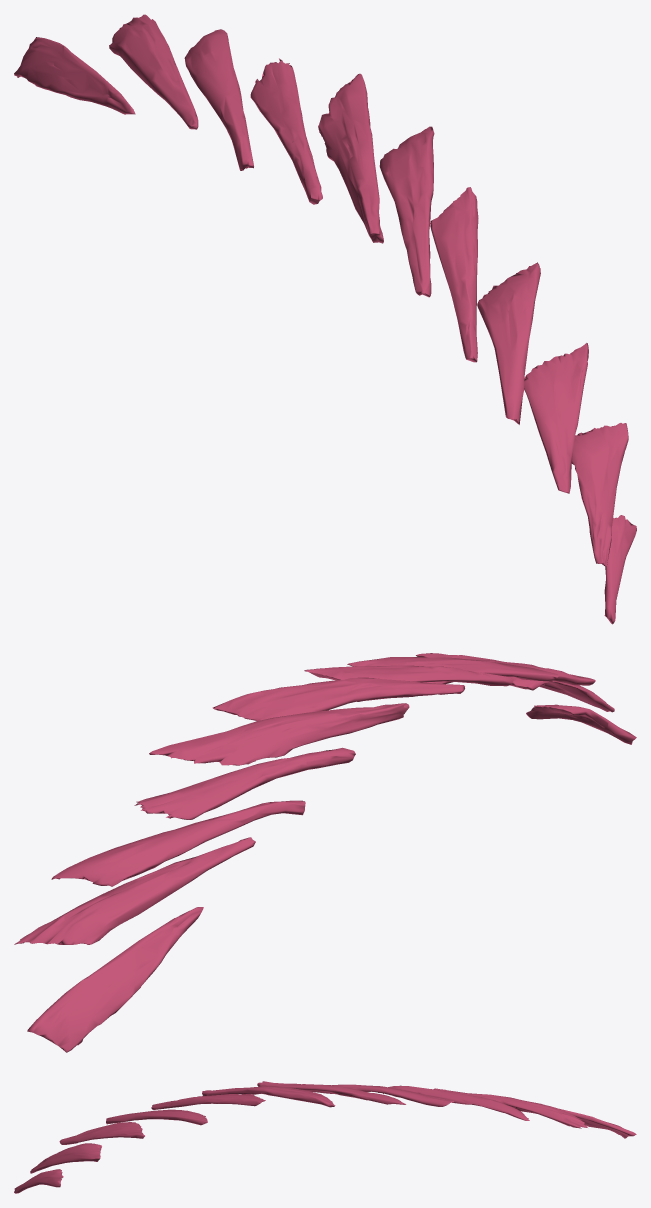
3 views of the same model, one above another, from view 1: azimuth 30°, elevation 25°; view 2: azimuth 150°, elevation 25°; view 3: azimuth 270°, elevation 25° (orthographic). The views are drawn at different scales.
Parts seen in each view (by area): view 1: 左侧肋长提肌; view 2: 左侧肋长提肌; view 3: 左侧肋长提肌.
Part boxes in pixels (left/top/right/bottom): 左侧肋长提肌: left=14, top=14, right=636, bottom=624; 左侧肋长提肌: left=14, top=653, right=636, bottom=1052; 左侧肋长提肌: left=14, top=1081, right=636, bottom=1193.
Size of the model in its own units: 0.0696 by 0.1068 by 0.486.
